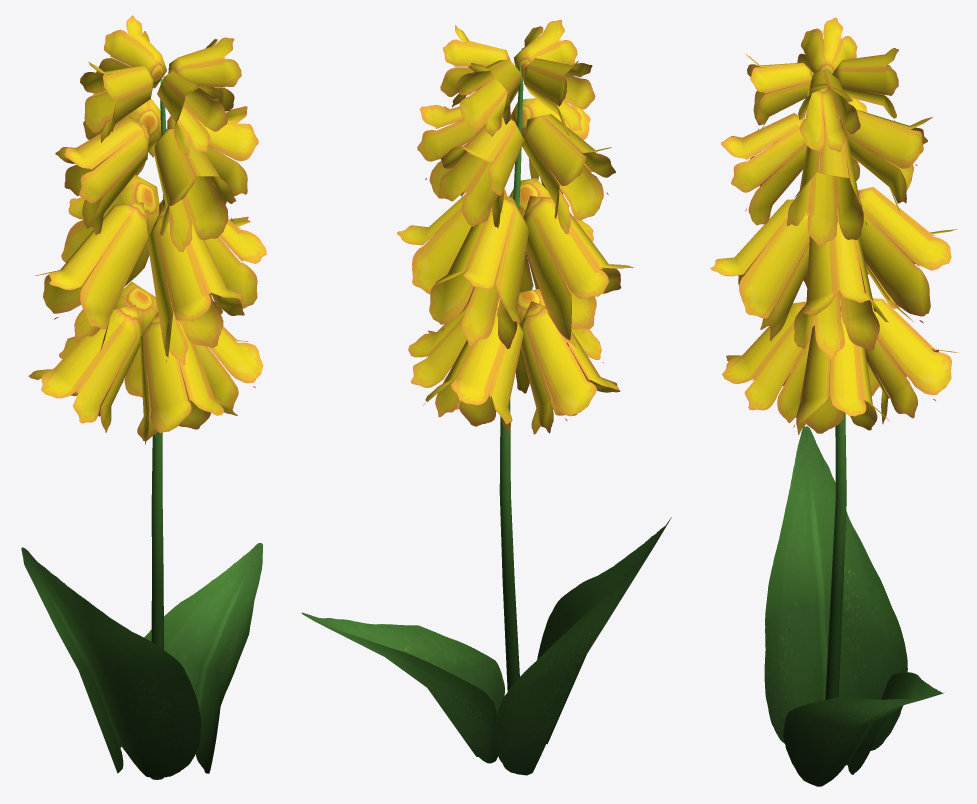
Rendered from Flower_4_Single.gltf.
The picture shows the model from 3 angles, left to right: view 1: azimuth 30°, elevation 25°; view 2: azimuth 150°, elevation 25°; view 3: azimuth 270°, elevation 25°; orthographic projection.
Visible parts, largest first — view 1: Flower_4_Single; view 2: Flower_4_Single; view 3: Flower_4_Single.
Boxes of the visible parts, x1,y1,x2,y2 form: Flower_4_Single: (21, 15, 266, 779); Flower_4_Single: (301, 19, 671, 775); Flower_4_Single: (710, 17, 958, 786).
Bounding box in the file's own units: 1.07 × 2.42 × 0.7729.
2 materials, 2 textured.
